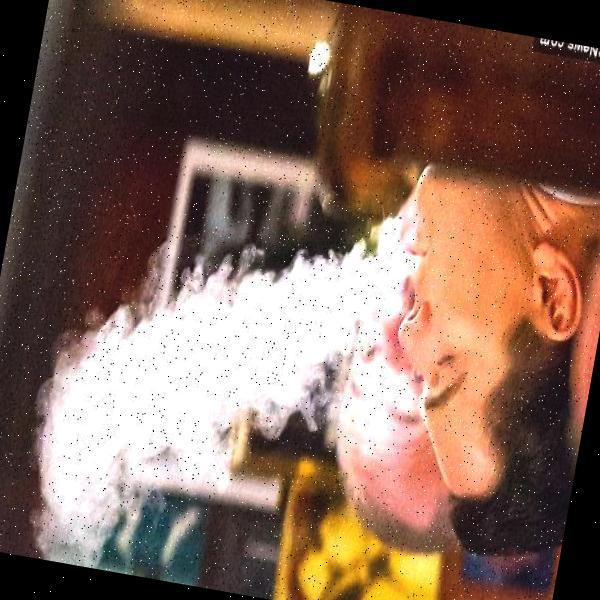smoke: (22, 215, 369, 600)
